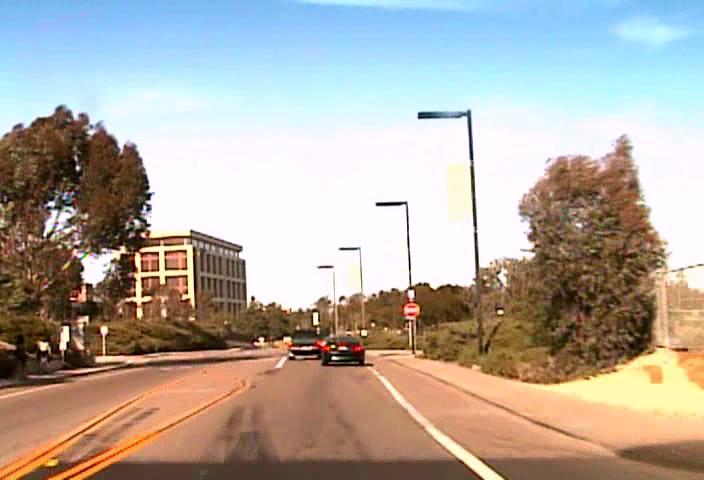stop: (403, 302, 418, 319)
